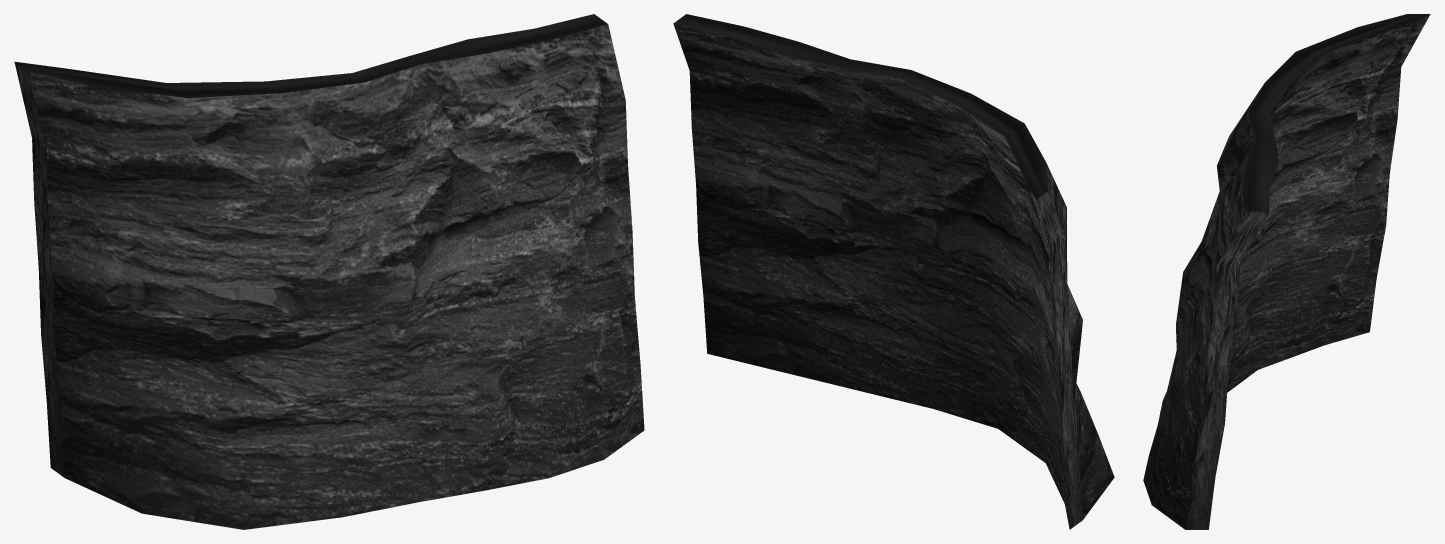
The model's file is Wand_Links.fbx.
3 renders of one model, left to right at view 1: azimuth 30°, elevation 25°; view 2: azimuth 150°, elevation 25°; view 3: azimuth 270°, elevation 25°, orthographic. The views are drawn at different scales.
Visible parts, largest first — view 1: Box001; view 2: Box001; view 3: Box001.
Part boxes in pixels (x1,y1,x2,y2): Box001: (14, 14, 644, 529); Box001: (673, 14, 1114, 529); Box001: (1143, 14, 1430, 529).
Size of the model in its own units: 20 by 15 by 12.28.
Materials: 1 (1 with a texture image).
